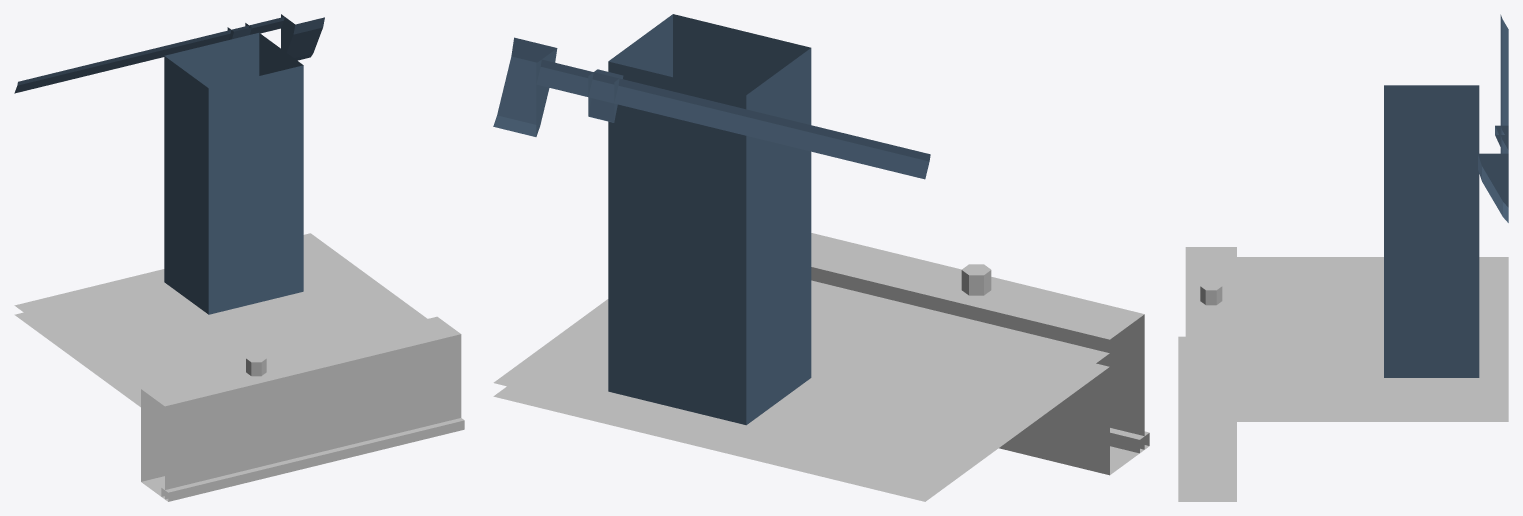
Rendered from cell_21.obj.
3 renders of one model, left to right at view 1: azimuth 30°, elevation 25°; view 2: azimuth 150°, elevation 25°; view 3: azimuth 270°, elevation 25°, orthographic. The views are drawn at different scales.
Bounding box in the file's own units: 1 × 1 × 0.9.
